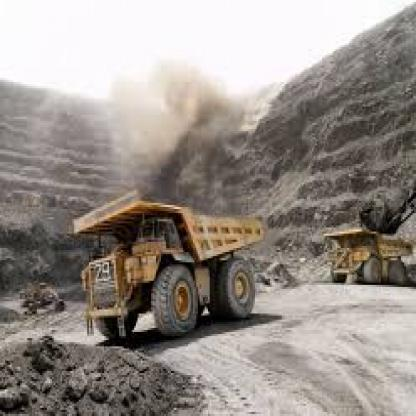dump_truck: (62, 178, 263, 328), (314, 218, 414, 304)
